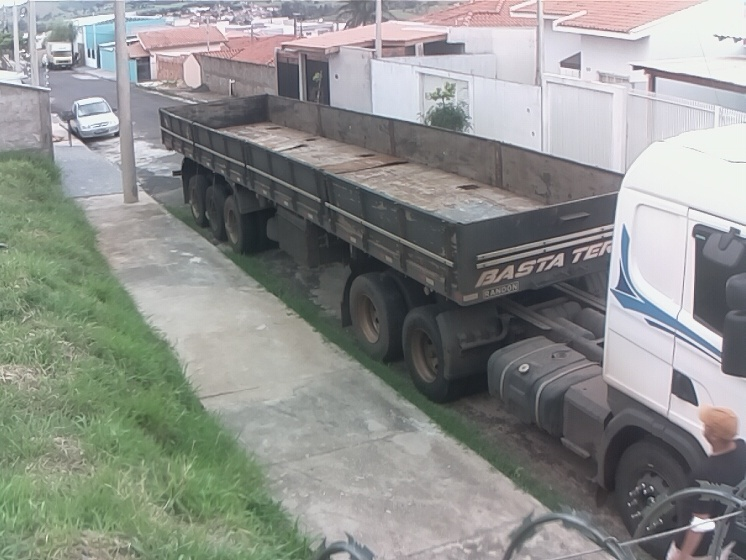person: (663, 405, 746, 560)
